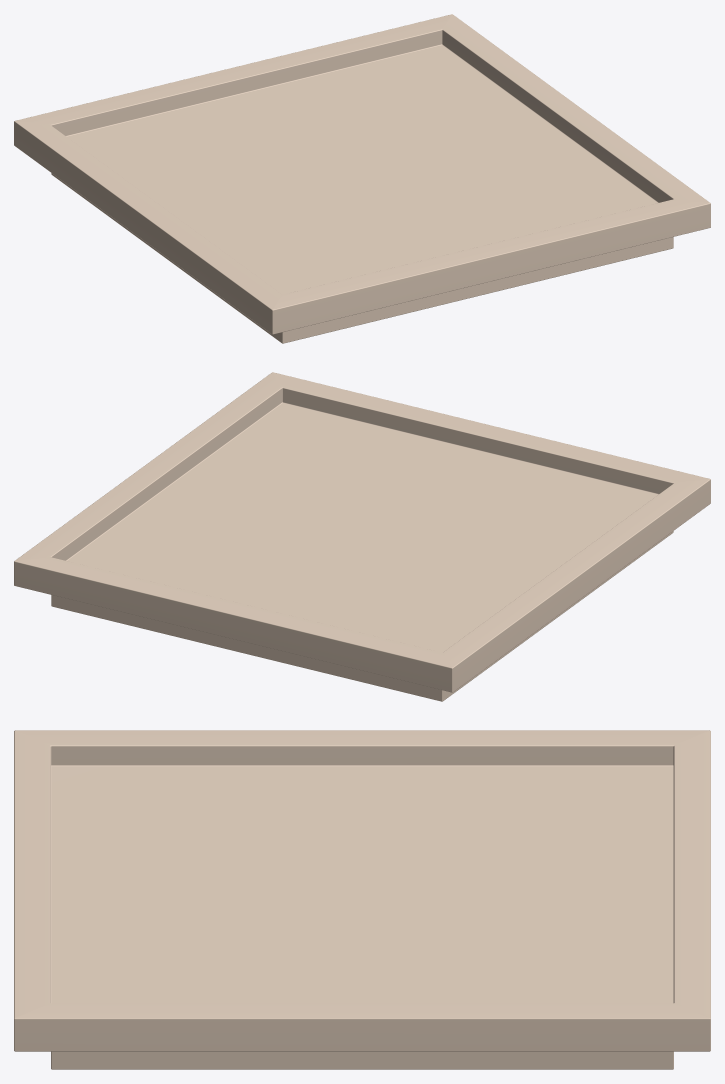
The model's file is Mesh_EDH_Roof1.fbx.
3 views of the same model, one above another, from view 1: azimuth 30°, elevation 25°; view 2: azimuth 150°, elevation 25°; view 3: azimuth 270°, elevation 25° (orthographic). The views are drawn at different scales.
Parts seen in each view (by area): view 1: polySurface106; view 2: polySurface106; view 3: polySurface106.
Part boxes in pixels (x1=…): polySurface106: x1=14, y1=14, x2=710, y2=343; polySurface106: x1=14, y1=372, x2=710, y2=701; polySurface106: x1=14, y1=730, x2=710, y2=1069.
Size of the model in its own units: 184 by 19.97 by 188.
